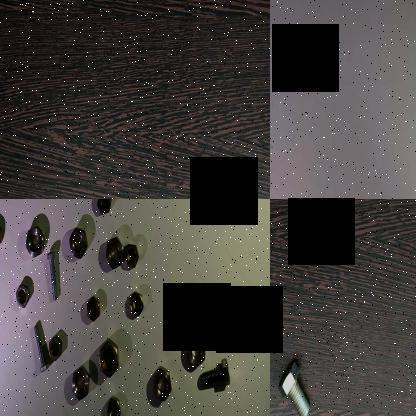Bolts: (278, 361, 313, 416), (30, 318, 52, 372), (198, 358, 232, 388), (46, 246, 59, 304)
NUTS: (98, 340, 122, 382), (152, 360, 174, 405), (184, 329, 208, 369), (71, 361, 91, 402), (103, 238, 125, 272), (25, 224, 45, 258), (70, 228, 90, 260), (14, 278, 32, 310), (168, 288, 184, 322), (128, 290, 146, 320), (85, 296, 103, 324), (124, 241, 140, 272), (47, 332, 61, 360), (94, 199, 114, 217), (106, 396, 121, 416), (0, 215, 5, 249)
